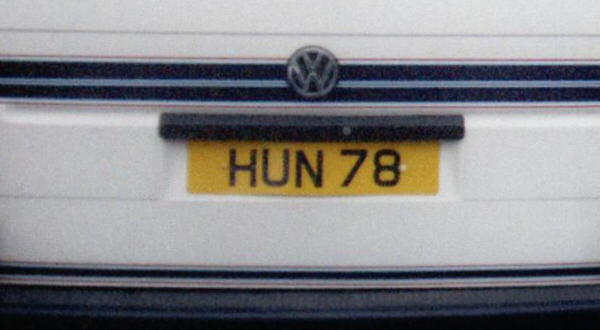license_plate: (185, 139, 442, 199)
